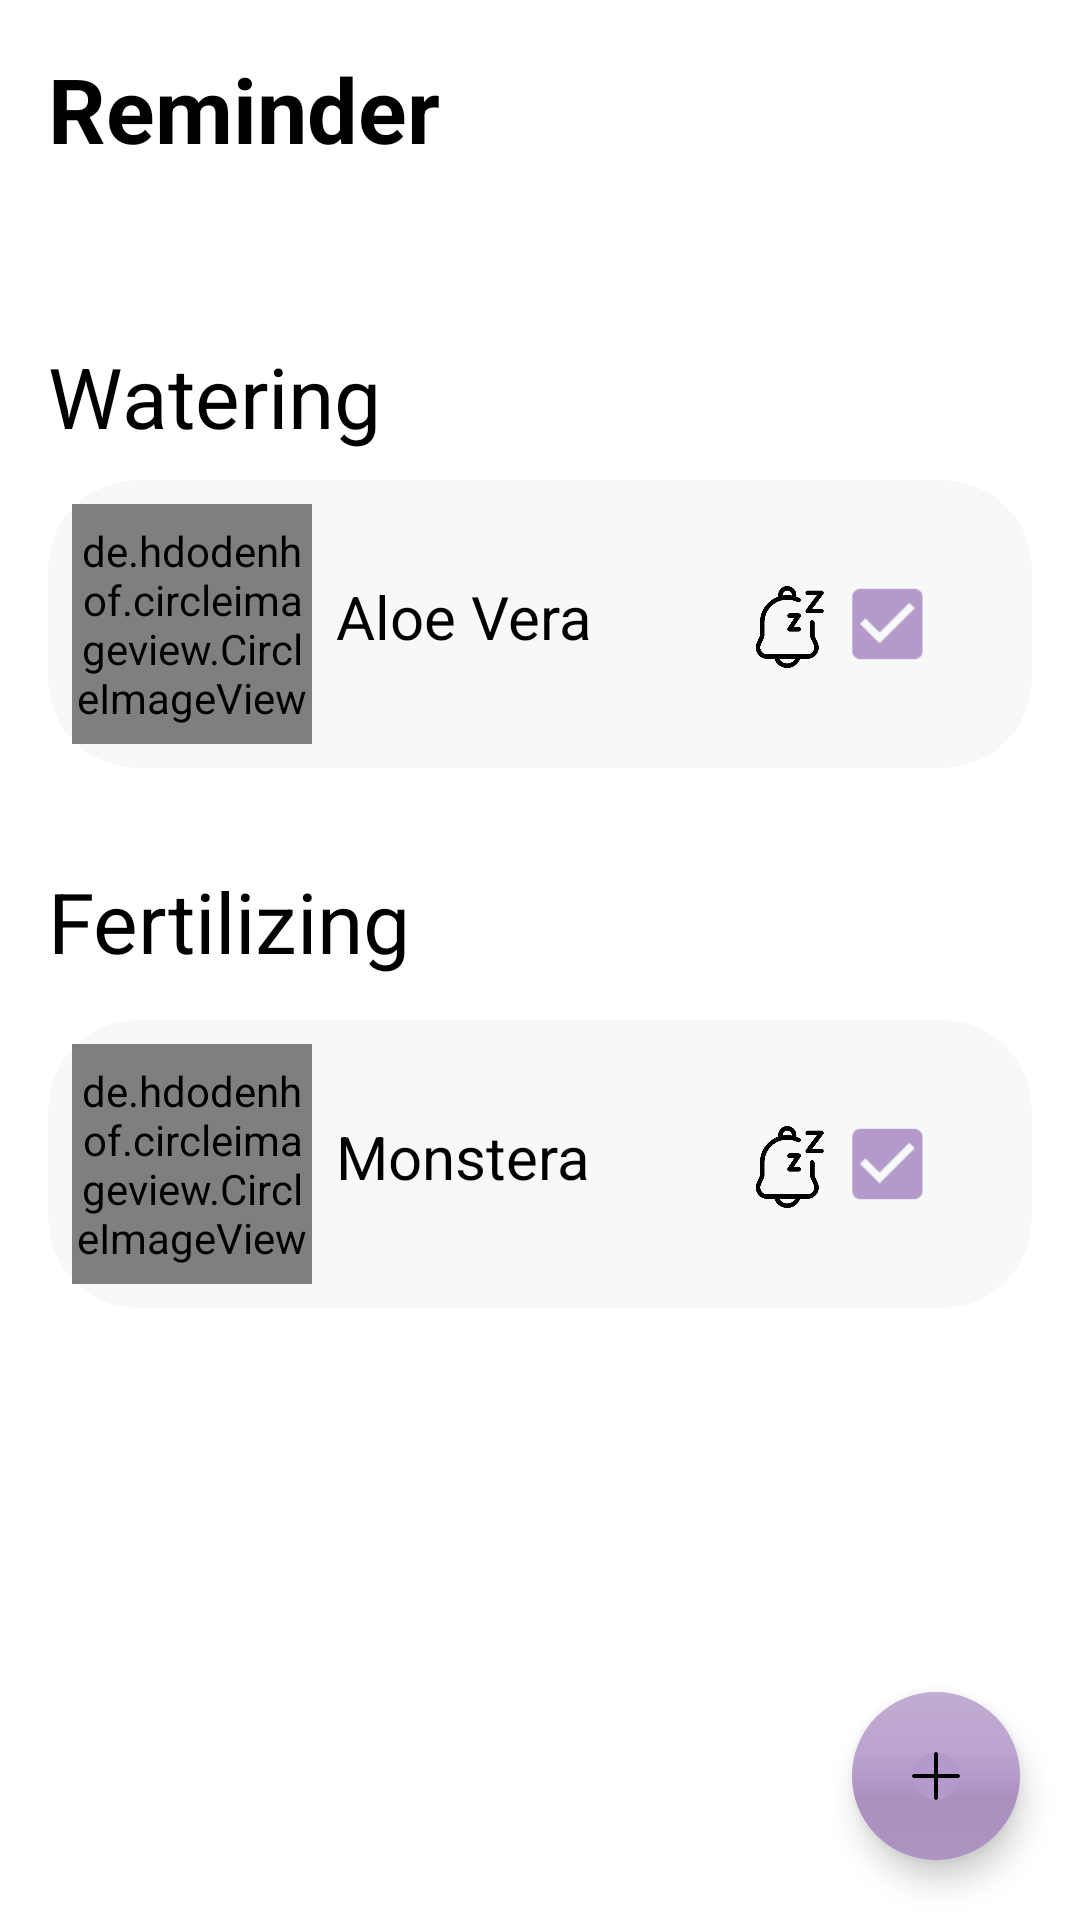

Icon bounding boxes for this 1080 × 1920 phone screenshot, format rect(x1, y1, x2, y2):
add: rect(852, 1692, 1020, 1860)
reminder snooze: rect(756, 586, 824, 668), rect(756, 1126, 824, 1208)
